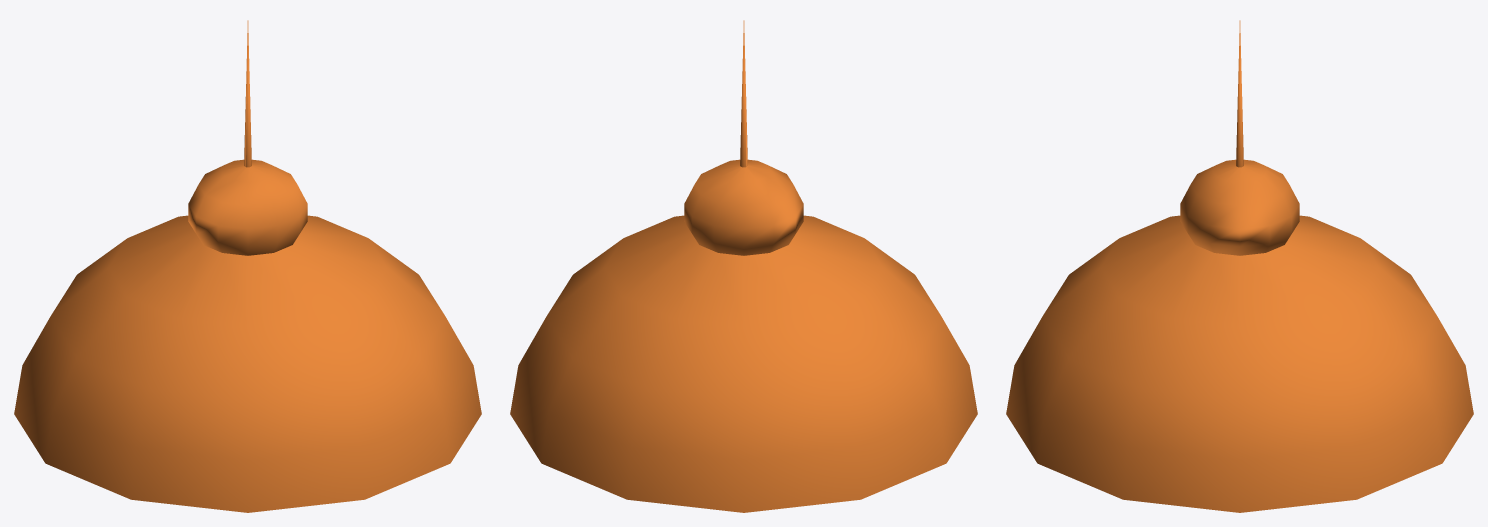
The model's file is BuildingCap.glb.
3 views of the same model, side by side, from view 1: azimuth 30°, elevation 25°; view 2: azimuth 150°, elevation 25°; view 3: azimuth 270°, elevation 25° (orthographic).
Visible parts, largest first — view 1: Cylinder; view 2: Cylinder; view 3: Cylinder.
Part boxes in pixels (bbox=[...]): Cylinder: bbox=[14, 20, 481, 512]; Cylinder: bbox=[510, 20, 977, 512]; Cylinder: bbox=[1006, 20, 1473, 512].
Size of the model in its own units: 2 by 1.89 by 2.
